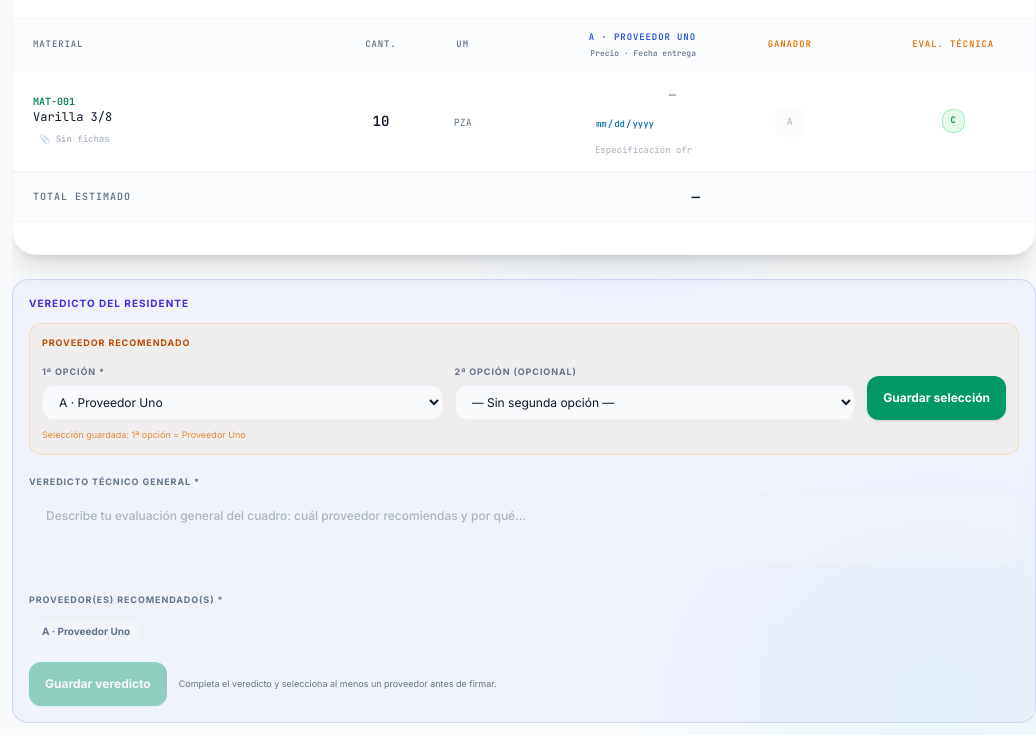
it: ComparativaDetail — gate del botón de firma sobre la selección de proveedor › con selección guardada + veredicto + sugeridos + todo evaluado, el botón de firma aparece
(page scrolled)
expect the text "Varilla 3/8" is shown: met, box [33,108,112,124]
Replace the text in the text box with placeholder "Describe tu evaluación general" with "Todo en orden, recomiendo este proveedor." at (524, 530), box [29,494,1019,566]
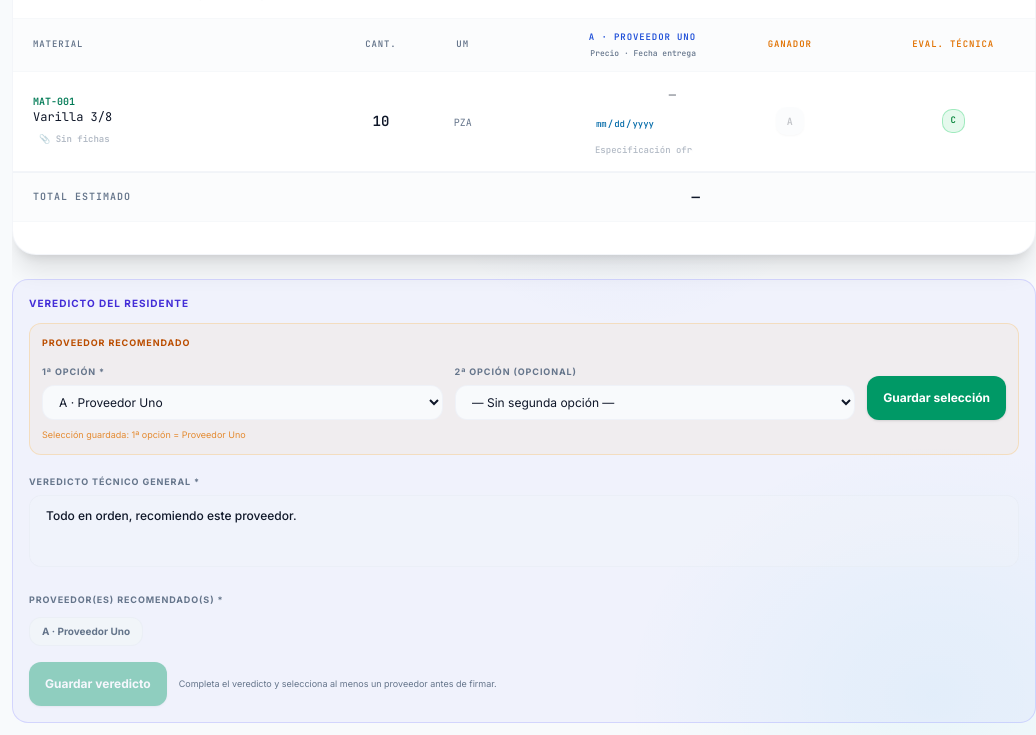
Click the button "A · Proveedor Uno" at (86, 631), box [29,616,143,646]
(page scrolled)
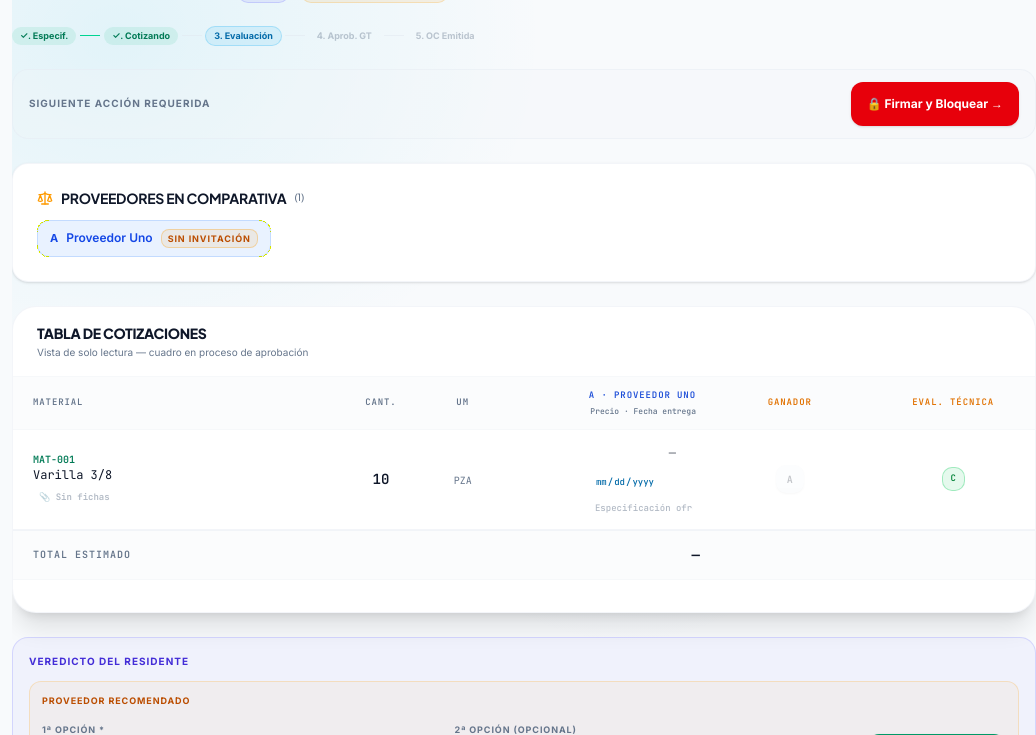
expect the button "🔒 Firmar y Bloquear →" is shown: met, box [851,82,1019,126]
